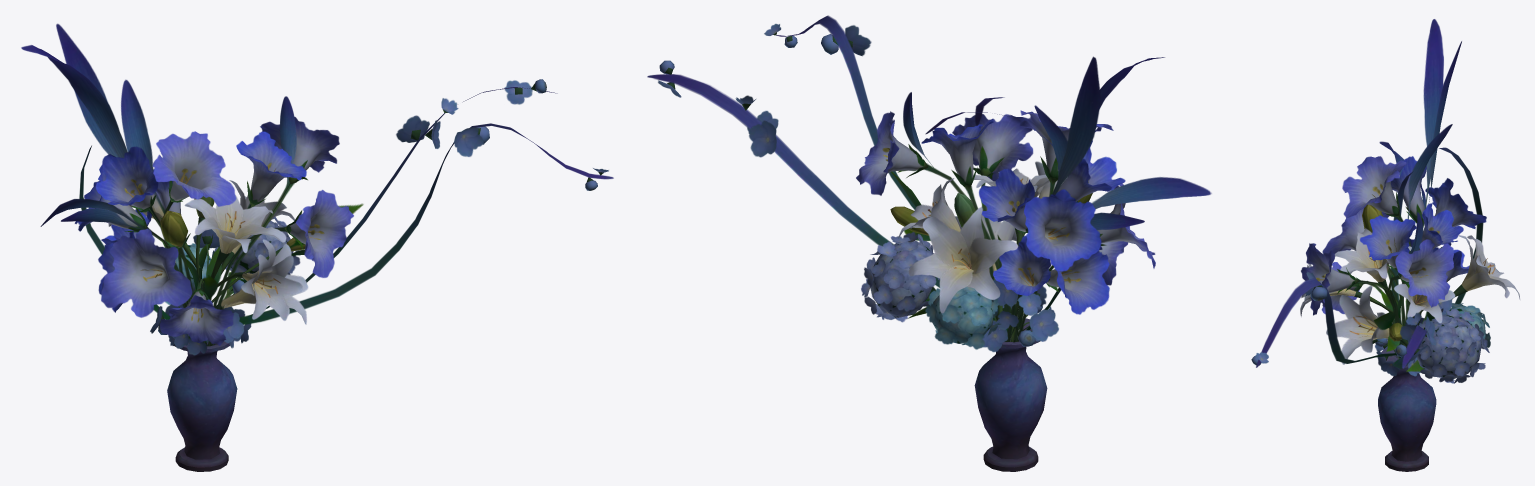
Rendered from furniture-20824.glb.
3 views of the same model, side by side, from view 1: azimuth 30°, elevation 25°; view 2: azimuth 150°, elevation 25°; view 3: azimuth 270°, elevation 25° (orthographic). The views are drawn at different scales.
Size of the model in its own units: 1.29 by 1.03 by 0.6576.
1 material, 1 textured.
